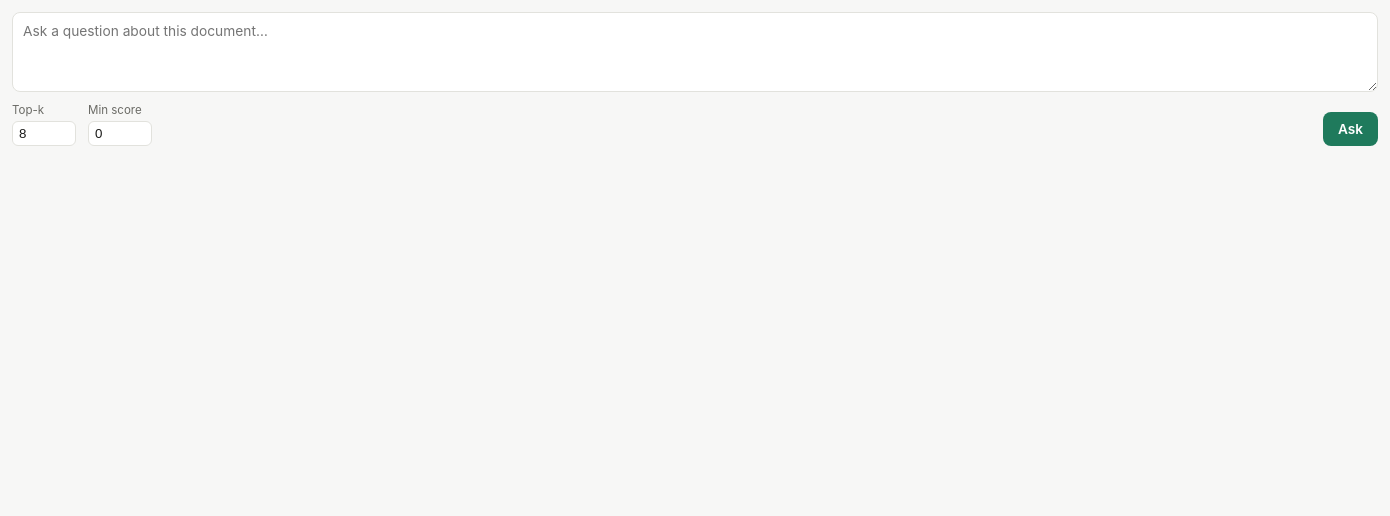
Test: AskPanel › shows a degraded banner when no model is available
The image size is (1390, 516).
Type "q" into the text box with placeholder "Ask a question about this document…" at (695, 52), box [12,12,1378,92]
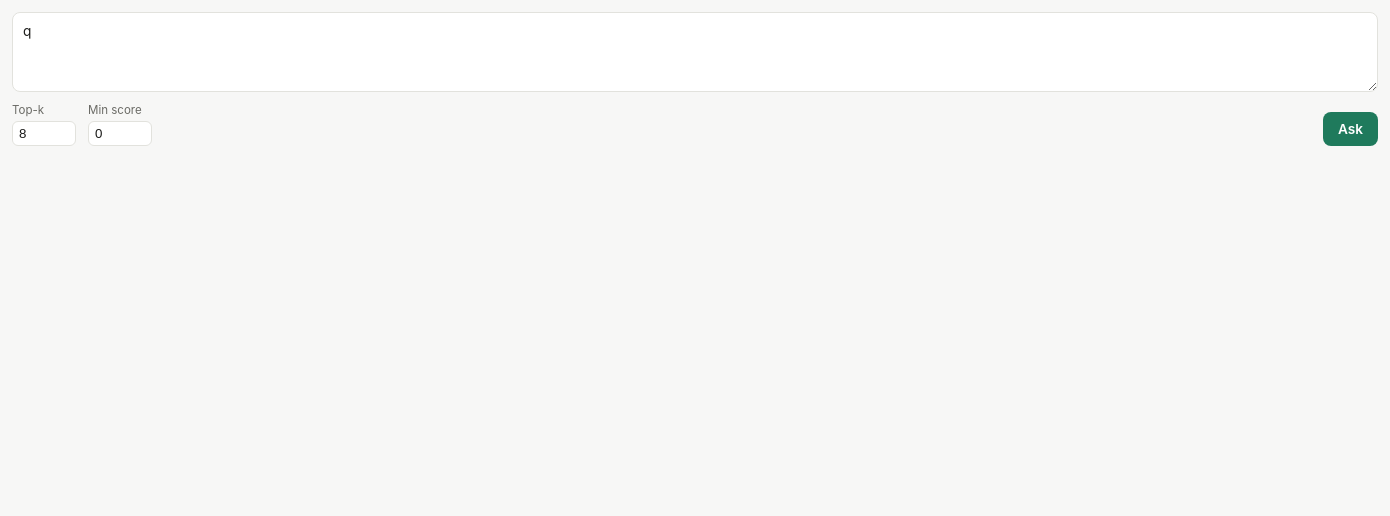
Click the button "Ask" at (1350, 129), box [1323,112,1378,146]
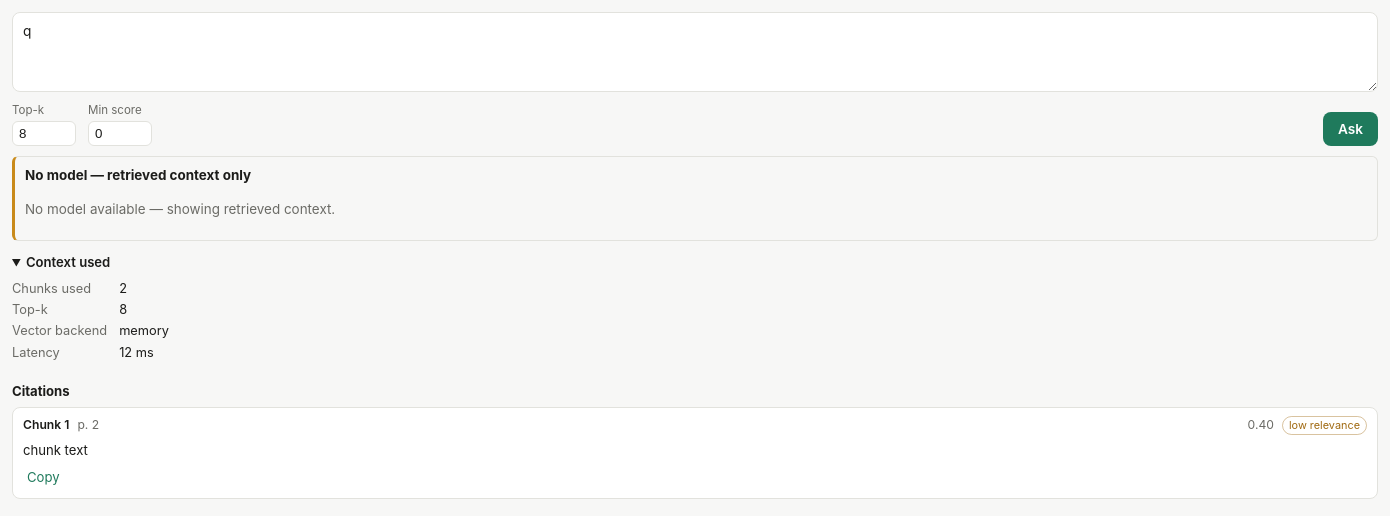
expect the text "No model — retrieved context only" is shown: met, box [25,167,251,183]
expect the text "low relevance" is shown: met, box [1282,416,1367,435]
